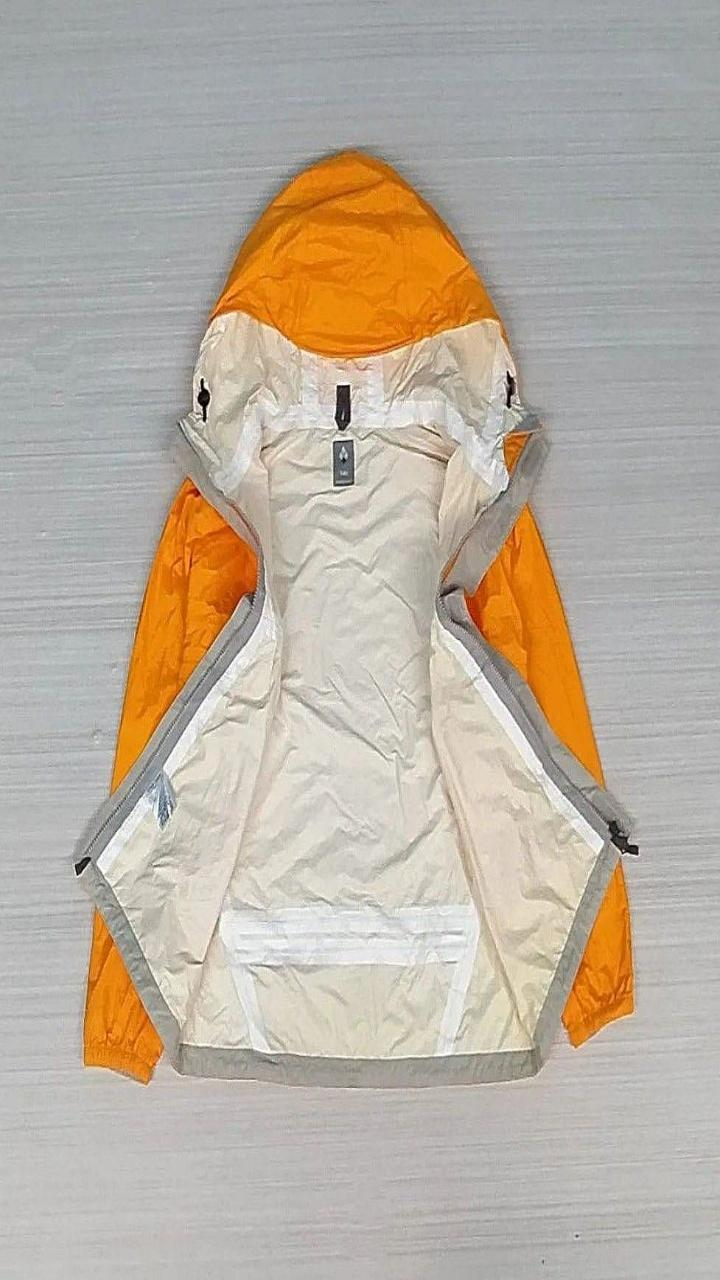Coat: (75, 153, 632, 1084)
